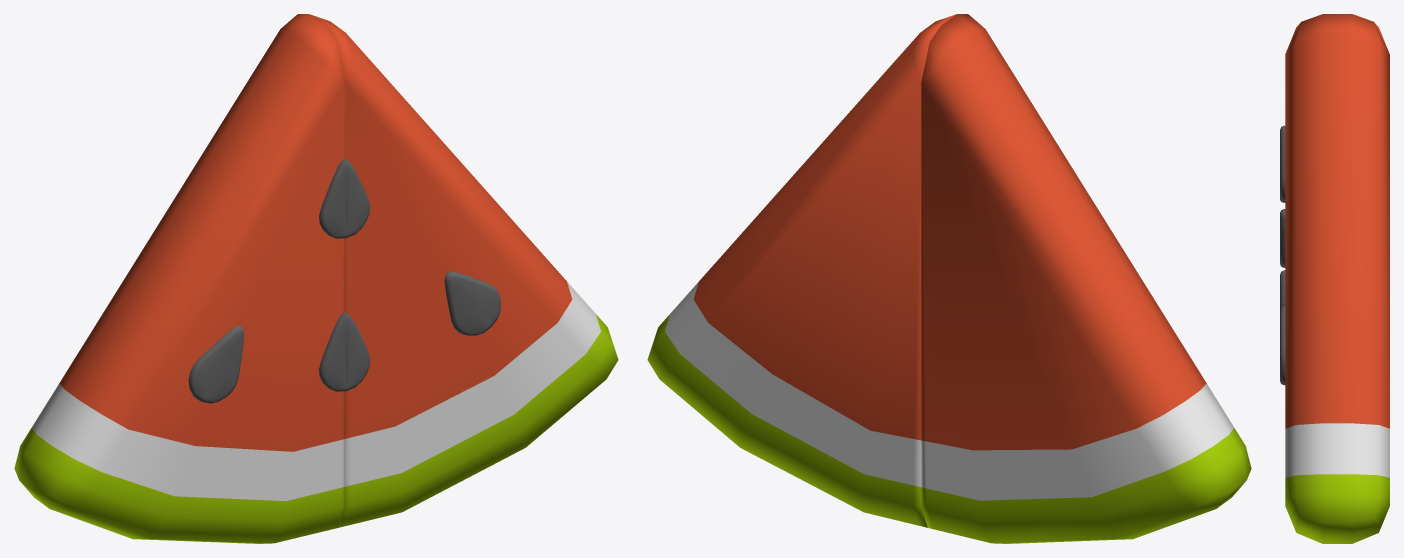
Rendered from SM_Watermelon_01a.fbx.
The picture shows the model from 3 angles, left to right: view 1: azimuth 30°, elevation 25°; view 2: azimuth 150°, elevation 25°; view 3: azimuth 270°, elevation 25°; orthographic projection. The views are drawn at different scales.
Parts seen in each view (by area): view 1: Watermelon_02, Watermelon_01; view 2: Watermelon_02, Watermelon_01; view 3: Watermelon_01, Watermelon_02.
Part boxes in pixels (x1,y1,x2,y2): Watermelon_02: (14,14,346,543); Watermelon_01: (310,14,618,527); Watermelon_02: (921,14,1251,543); Watermelon_01: (647,14,955,527); Watermelon_01: (1280,14,1389,543); Watermelon_02: (1280,22,1388,267).
Size of the model in its own units: 34.22 by 28.37 by 5.95.
